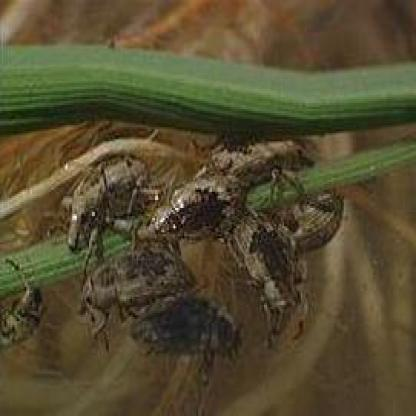rice-bug: (53, 129, 349, 358), (0, 278, 41, 347)
